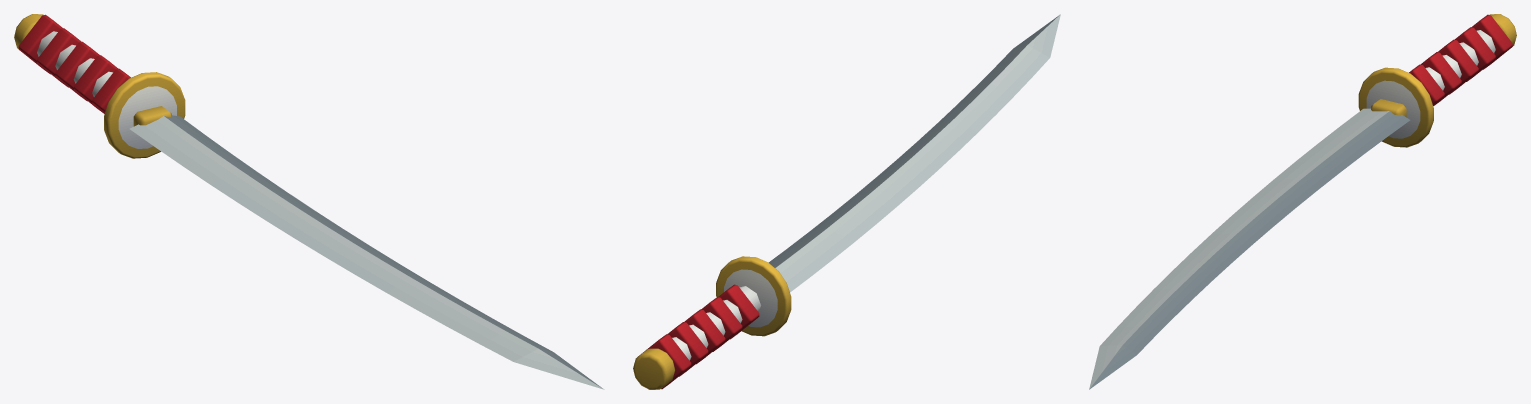
The model's file is weapon_katana.glb.
3 views of the same model, side by side, from view 1: azimuth 30°, elevation 25°; view 2: azimuth 150°, elevation 25°; view 3: azimuth 330°, elevation 25° (orthographic). The views are drawn at different scales.
Parts seen in each view (by area): view 1: Curved katana blade; view 2: Curved katana blade; view 3: Curved katana blade.
Part boxes in pixels (x1=…): Curved katana blade: x1=14, y1=14, x2=604, y2=389; Curved katana blade: x1=633, y1=14, x2=1060, y2=389; Curved katana blade: x1=1089, y1=14, x2=1516, y2=389.
Bounding box in the file's own units: 0.1617 × 0.124 × 1.38.
5 materials, 5 textured.
